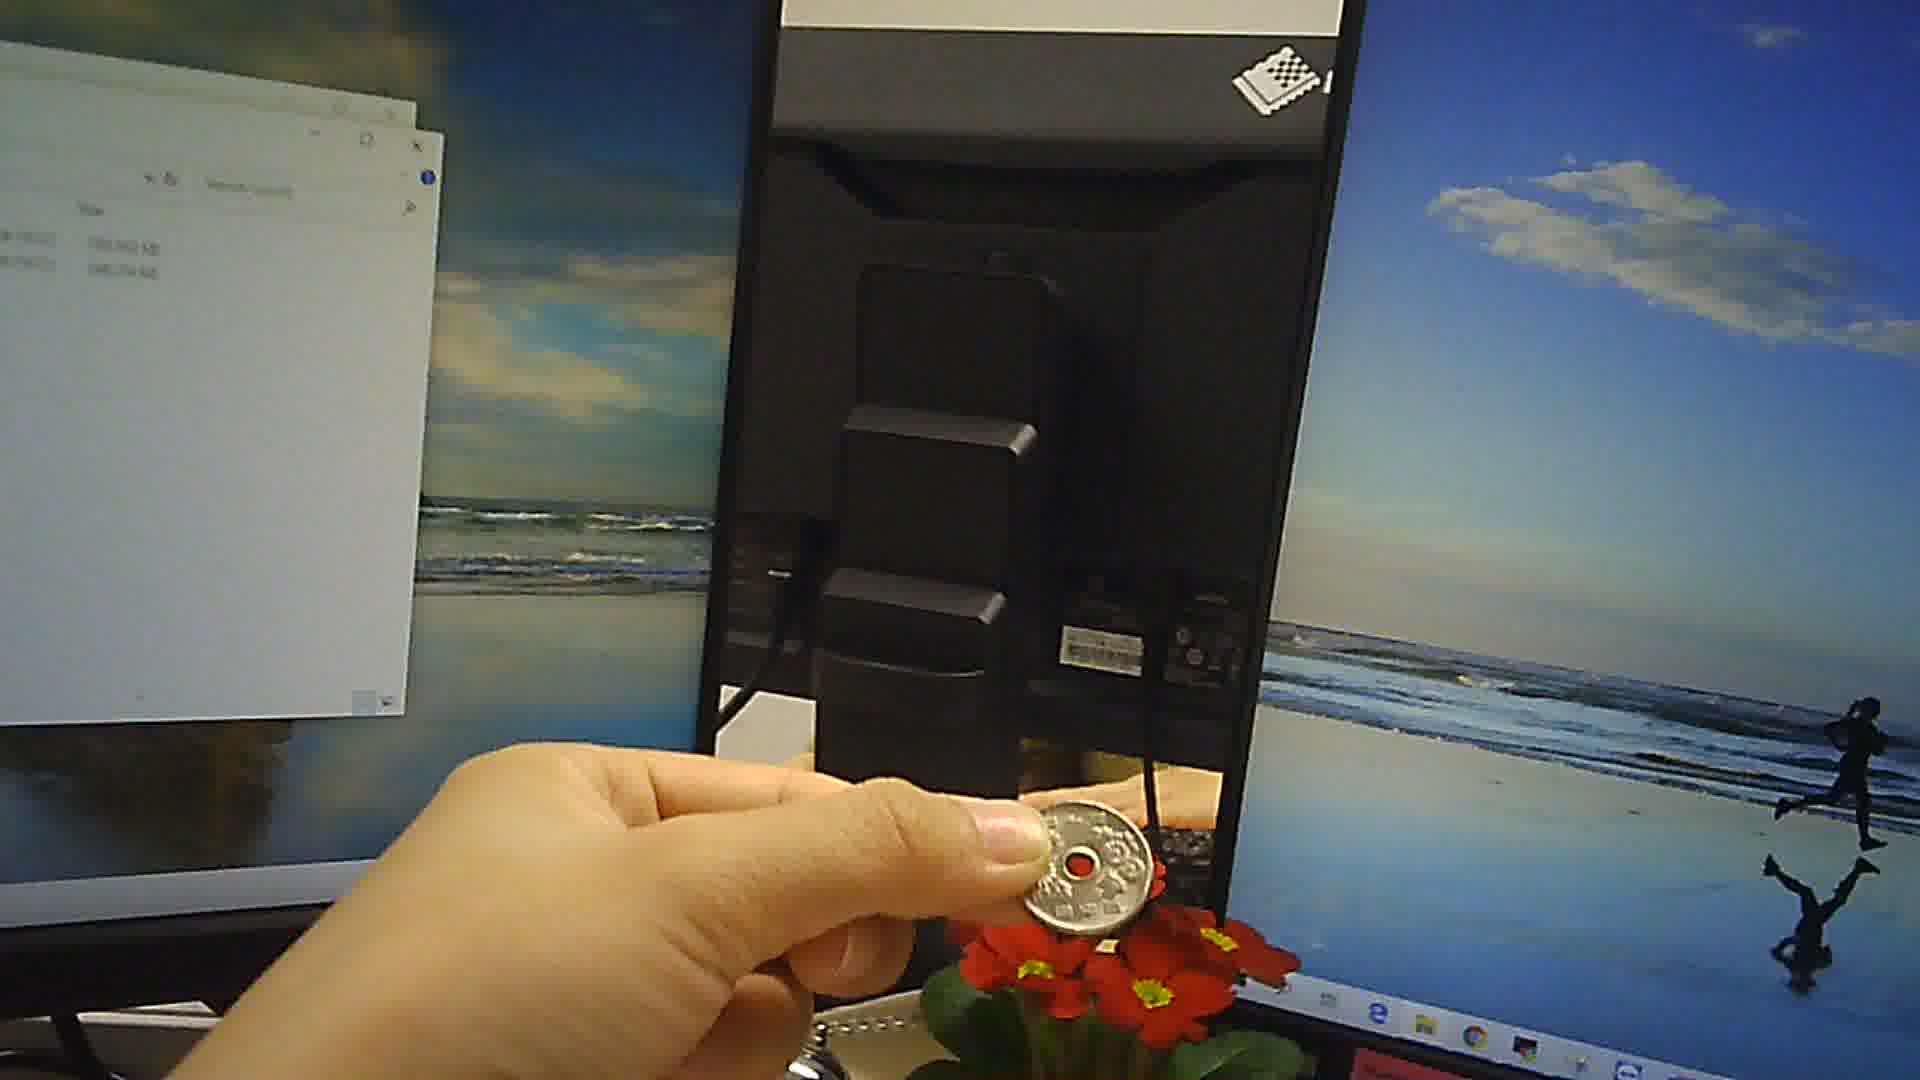50 Yen: (1009, 790, 1156, 943)
